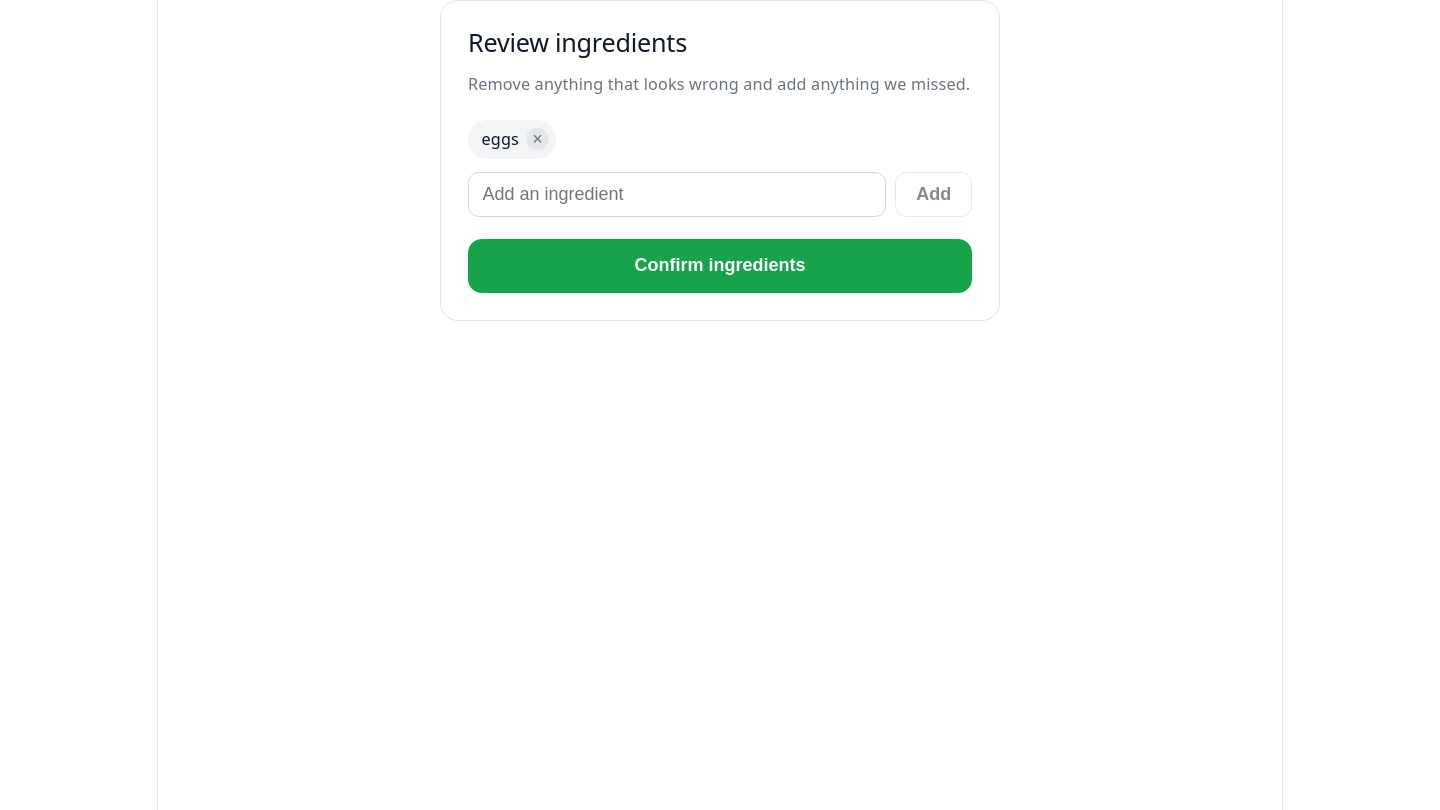
Test: IngredientReview › adds a missing ingredient via the input and add button
In the field labelled "Add an ingredient": (677, 194) [468, 172, 886, 217], type "tomatoes"
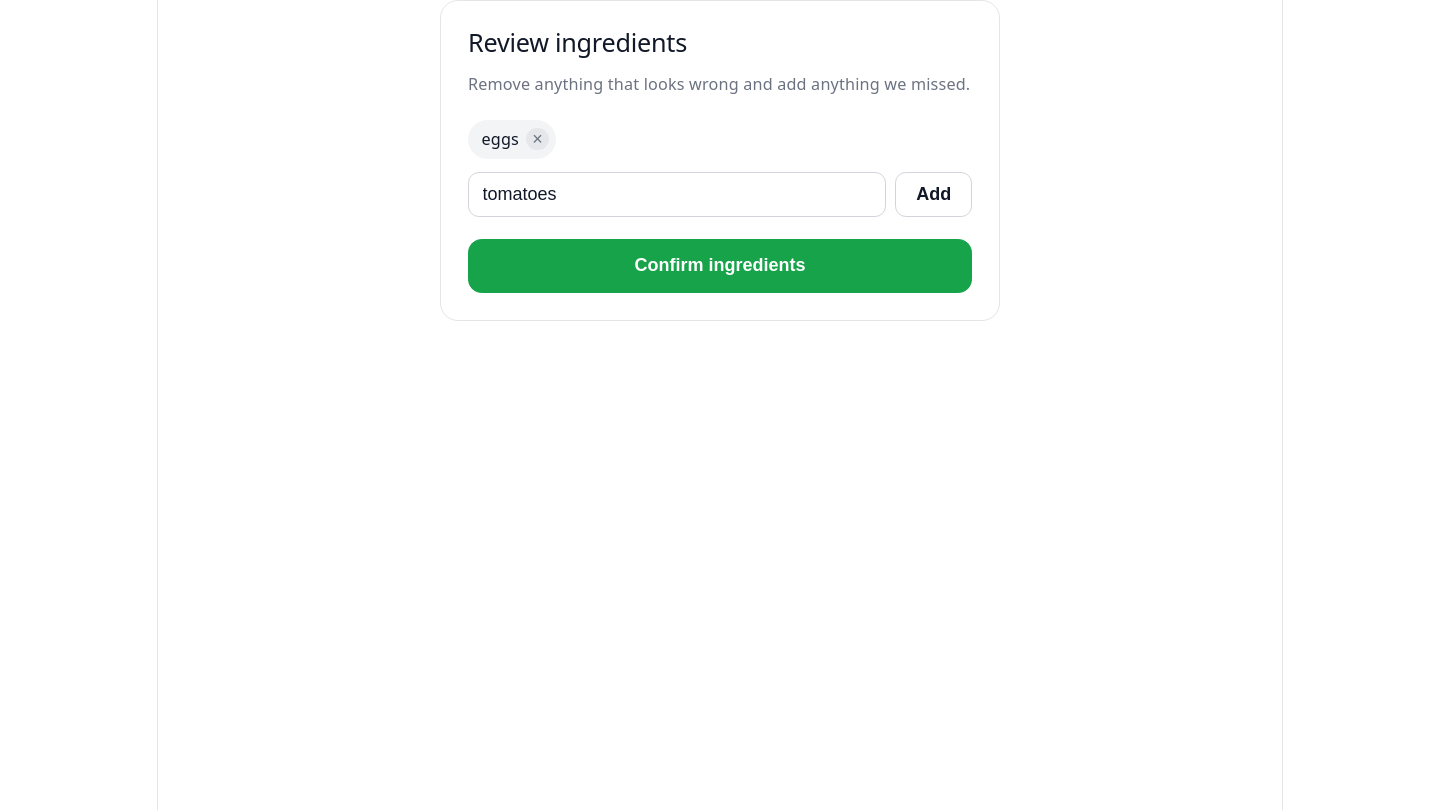
Click the button "Add": (934, 194) [895, 172, 972, 217]
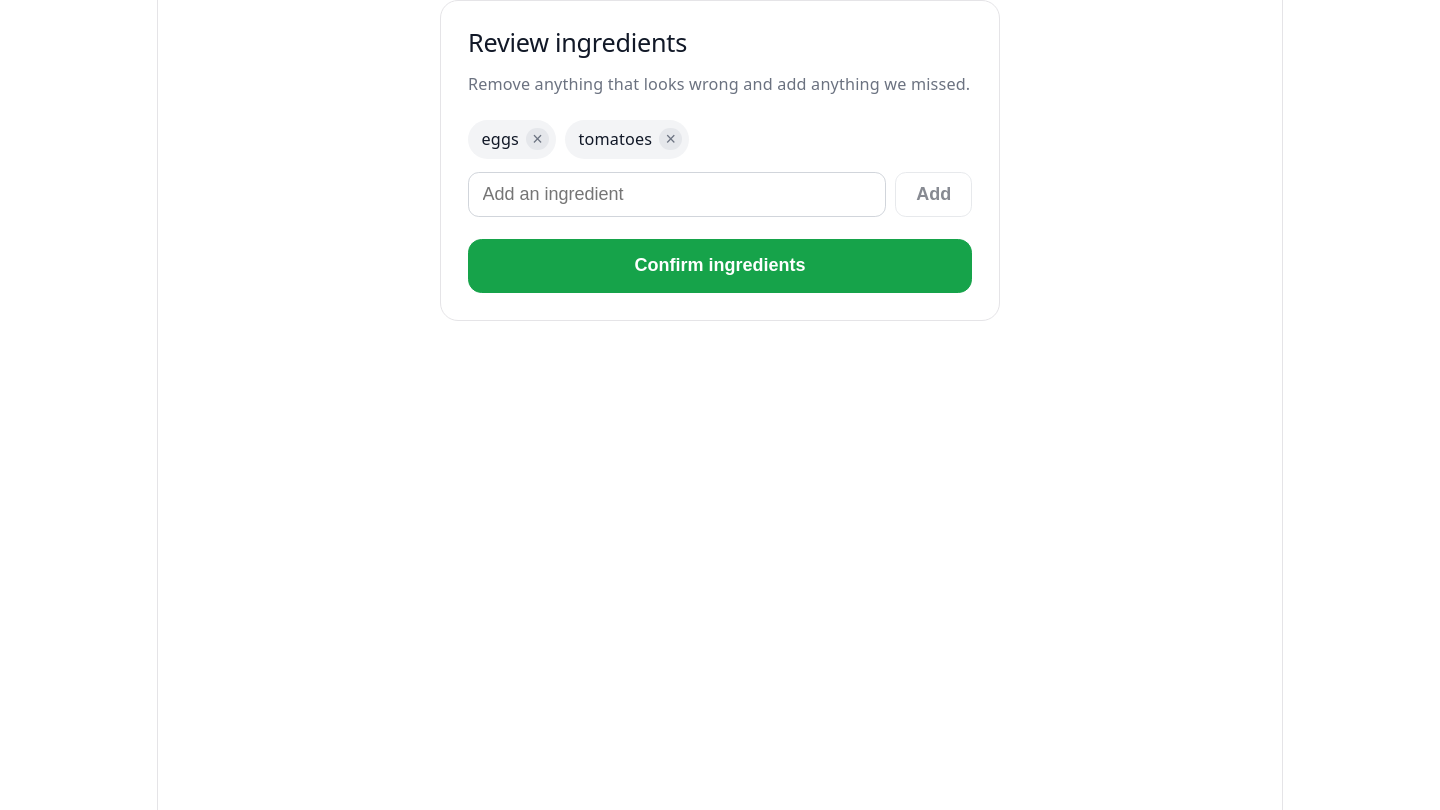
Expected: the text "tomatoes" is shown, [578, 126, 652, 152]
Expected: the field labelled "Add an ingredient" is empty, [468, 172, 886, 217]
